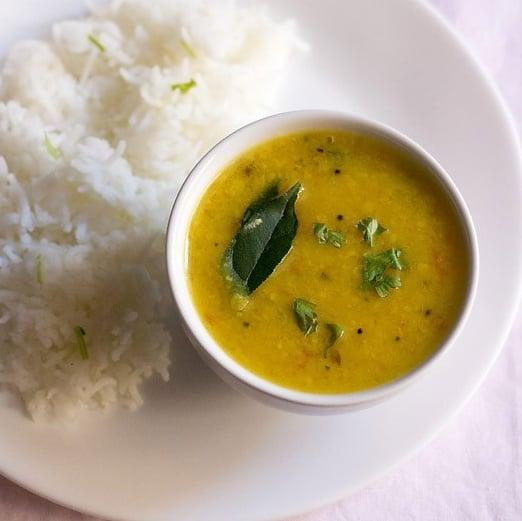rice: (10, 16, 174, 404)
varan: (213, 152, 438, 351)
